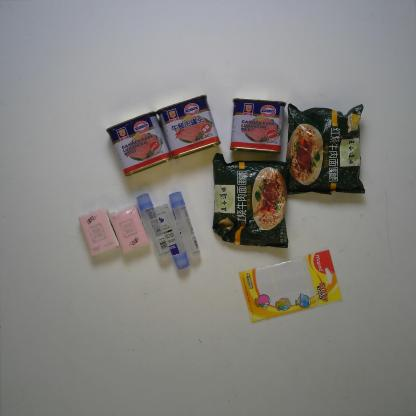Canned Food: (105, 110, 172, 178), (154, 94, 221, 160), (227, 96, 287, 154)
Instant Noodles: (211, 151, 291, 250), (283, 102, 366, 196)
Stationery: (238, 248, 342, 322), (135, 192, 171, 262), (154, 202, 190, 270), (168, 190, 202, 258)
Tissue: (107, 204, 151, 254), (78, 206, 120, 258)
